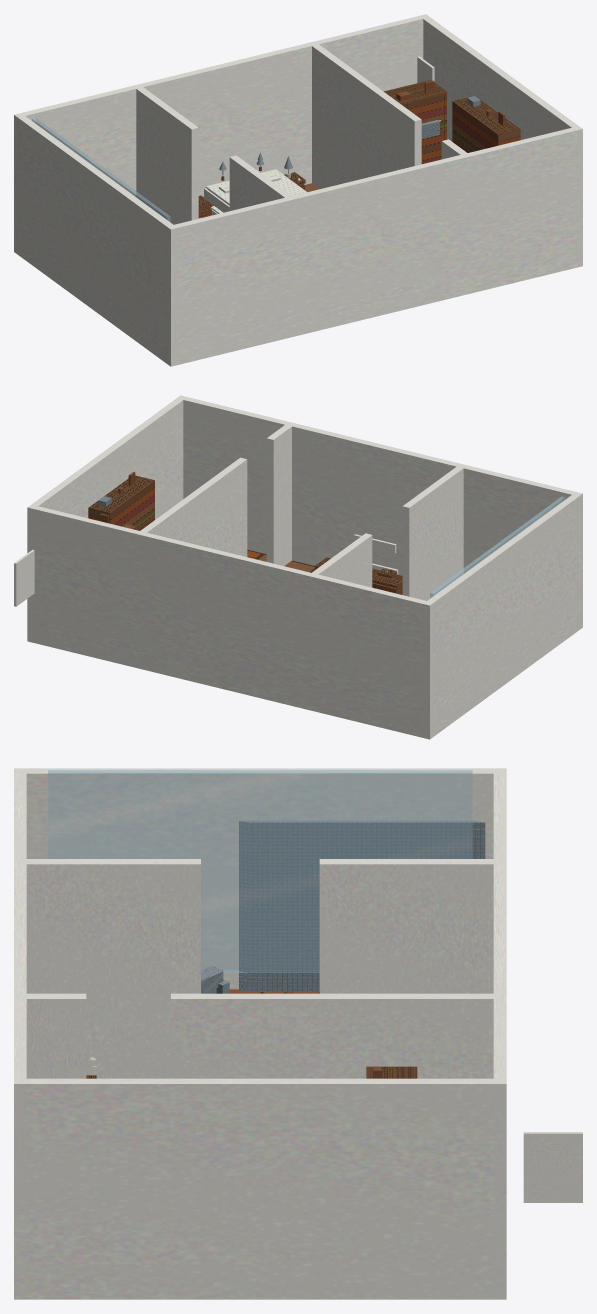
The picture shows the model from 3 angles, top to bottom: view 1: azimuth 30°, elevation 25°; view 2: azimuth 150°, elevation 25°; view 3: azimuth 270°, elevation 25°; orthographic projection. The views are drawn at different scales.
Visible parts, largest first — view 1: Wall_South, Wall_North, Wall_West, Partition_East_Bottom, Wall_East, Partition_West_Bottom, Partition_West_Top, East_Wardrobe_wardrobe_body, North_Wardrobe_right_door, East_Wardrobe_top_panel, West_Window_Curtains, Bed_Bedding_top_sheet_layer (+1 smaller); view 2: Wall_North, Wall_South, Wall_West, Wall_East, Partition_West_Top, Partition_East_Bottom, Partition_East_Top, East_Wardrobe_wardrobe_body, Partition_West_Bottom, East_Wall_Closet_Accessory_Panels_01, West_Window_Curtains; view 3: Wall_East, West_Window_Curtains, Wall_West, Partition_West_Top, Partition_East_Bottom, Partition_West_Bottom, West_Curtains_curtain_panel_right, Wall_North, Wall_South, Partition_East_Top, East_Wall_Closet_Accessory_Panels_01, West_Curtains_curtain_panel_left (+1 smaller).
Boxes of the visible parts, left/top/right/bottom form: Wall_South: left=166, top=127, right=581, bottom=366; Wall_North: left=14, top=14, right=429, bottom=254; Wall_West: left=16, top=114, right=177, bottom=366; Partition_East_Bottom: left=312, top=44, right=421, bottom=188; Wall_East: left=420, top=14, right=582, bottom=266; Partition_West_Bottom: left=136, top=87, right=198, bottom=224; Partition_West_Top: left=229, top=155, right=291, bottom=210; East_Wardrobe_wardrobe_body: left=452, top=97, right=520, bottom=152; North_Wardrobe_right_door: left=407, top=94, right=446, bottom=164; East_Wardrobe_top_panel: left=452, top=96, right=520, bottom=136; West_Window_Curtains: left=32, top=117, right=170, bottom=221; Bed_Bedding_top_sheet_layer: left=205, top=169, right=306, bottom=204; Wall_North: left=27, top=505, right=433, bottom=738; Wall_South: left=177, top=395, right=582, bottom=627; Wall_West: left=423, top=494, right=582, bottom=739; Wall_East: left=27, top=395, right=186, bottom=642; Partition_West_Top: left=402, top=466, right=463, bottom=600; Partition_East_Bottom: left=140, top=457, right=247, bottom=556; Partition_East_Top: left=266, top=424, right=291, bottom=565; East_Wardrobe_wardrobe_body: left=88, top=476, right=154, bottom=530; Partition_West_Bottom: left=312, top=533, right=372, bottom=587; East_Wall_Closet_Accessory_Panels_01: left=14, top=549, right=34, bottom=606; West_Window_Curtains: left=430, top=496, right=565, bottom=598; Wall_East: left=14, top=1078, right=506, bottom=1299; West_Window_Curtains: left=48, top=770, right=472, bottom=972; Wall_West: left=14, top=768, right=506, bottom=989; Partition_West_Top: left=26, top=859, right=200, bottom=1078; Partition_East_Bottom: left=171, top=993, right=493, bottom=1078; Partition_West_Bottom: left=319, top=859, right=493, bottom=993; West_Curtains_curtain_panel_right: left=247, top=822, right=485, bottom=991; Wall_North: left=493, top=768, right=506, bottom=1299; Wall_South: left=14, top=768, right=26, bottom=1299; Partition_East_Top: left=26, top=993, right=86, bottom=1078; East_Wall_Closet_Accessory_Panels_01: left=523, top=1132, right=582, bottom=1202; West_Curtains_curtain_panel_left: left=239, top=820, right=476, bottom=990.
Size of the model in its own units: 8.8 by 2.9 by 6.7.
14 materials, 14 textured.
